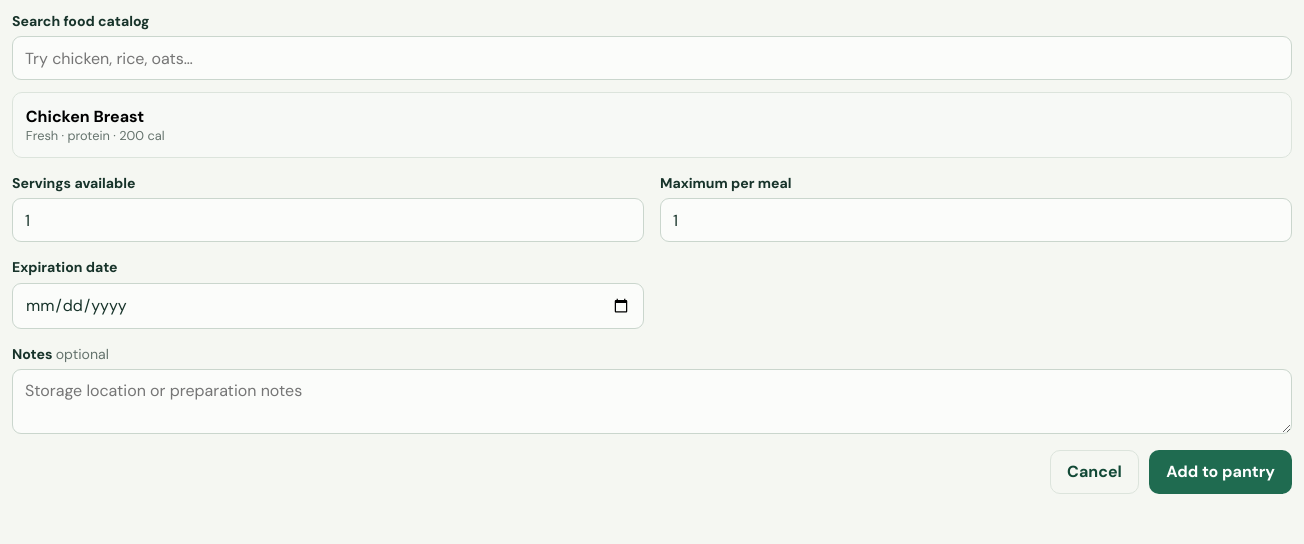
Test: AddFoodForm › requires a catalog selection
Click the button "Add to pantry". click: (1221, 472)
box: [1149,450,1292,494]
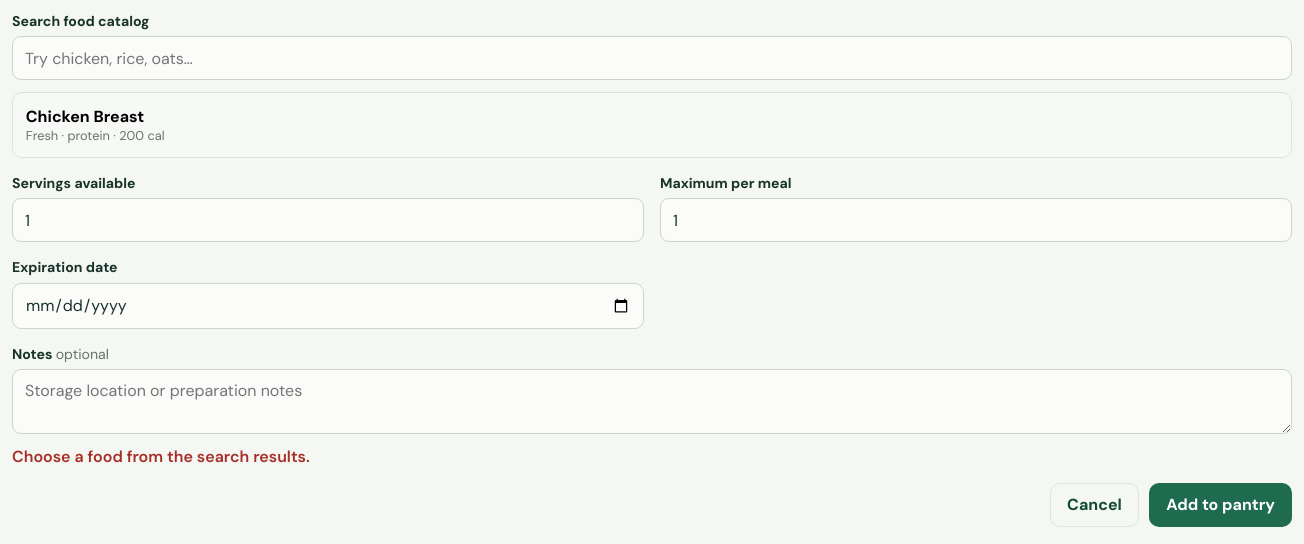
Now the message shows "Choose a food", box [12,446,310,467]
